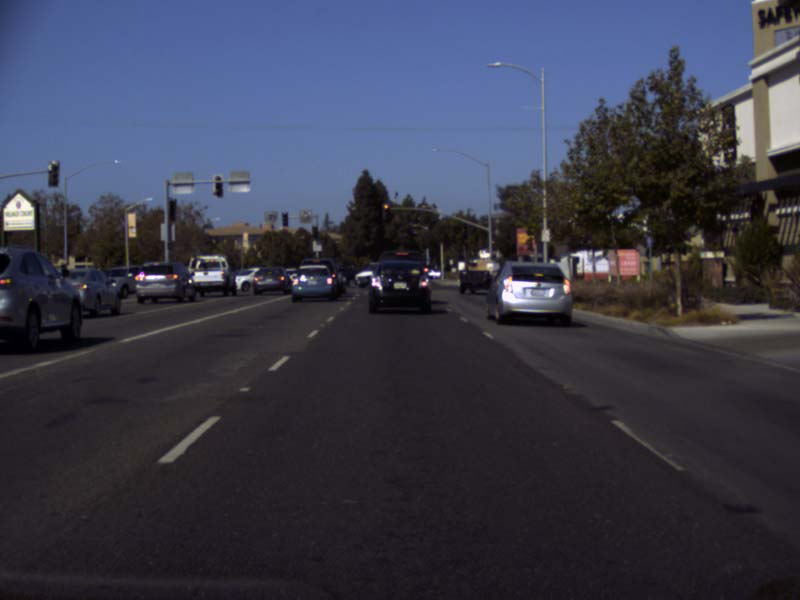Red: (382, 202, 389, 220)
